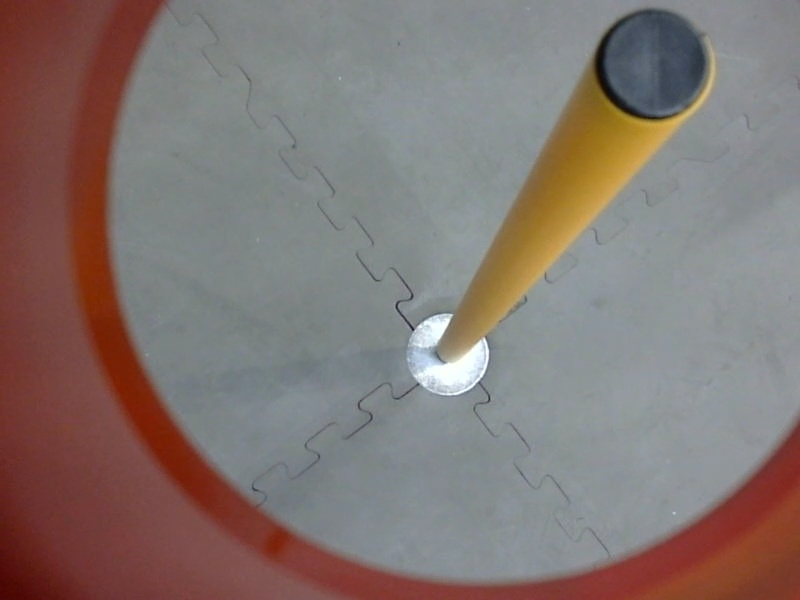tip: (589, 1, 720, 129)
